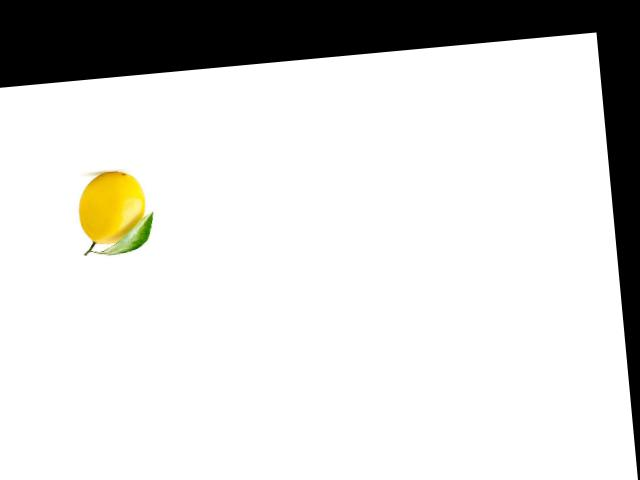lemon: (72, 166, 153, 255)
